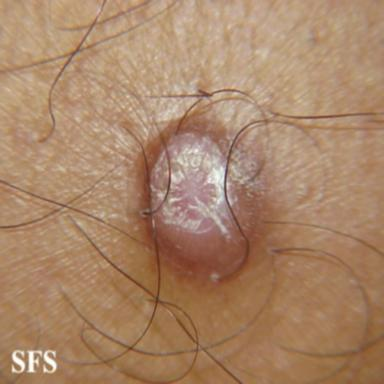Molluscum-Contagiosum: (135, 121, 267, 287)
